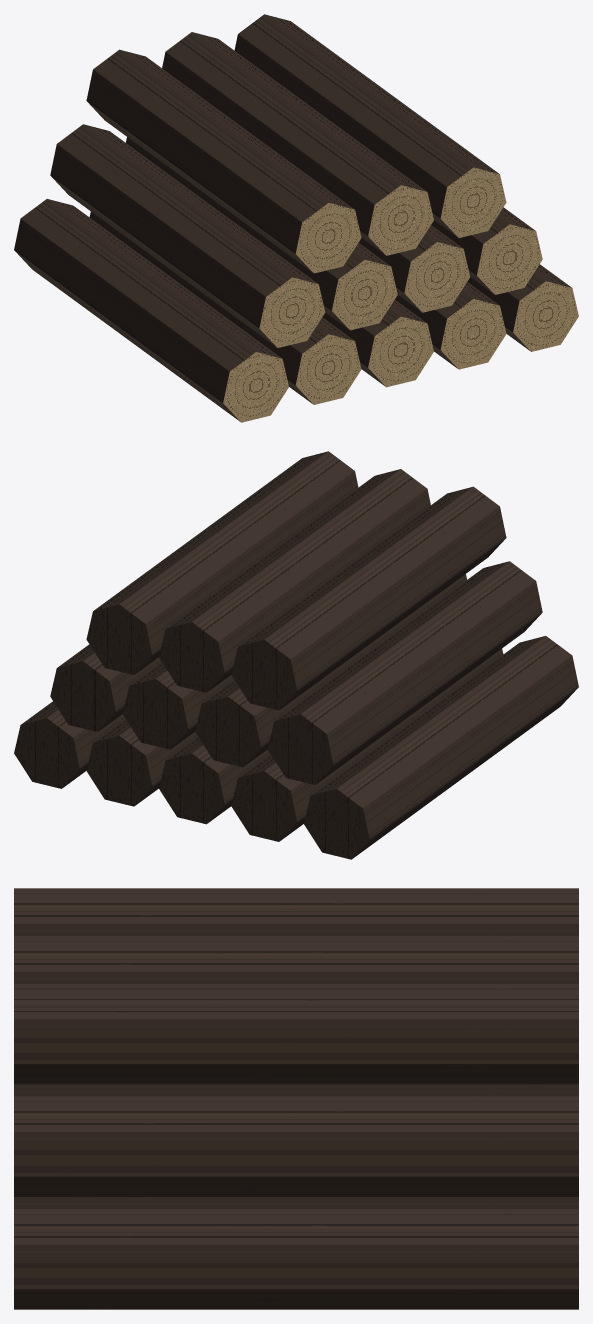
File: woodpile.glb
3 views of the same model, one above another, from view 1: azimuth 30°, elevation 25°; view 2: azimuth 150°, elevation 25°; view 3: azimuth 270°, elevation 25° (orthographic). The views are drawn at different scales.
Parts seen in each view (by area): view 1: woodpile; view 2: woodpile; view 3: woodpile.
Part boxes in pixels (<box>): woodpile: <box>14,14,578,422</box>; woodpile: <box>14,451,578,859</box>; woodpile: <box>14,888,578,1309</box>.
Bounding box in the file's own units: 1.47 × 0.7861 × 1.5.
Materials: 1 (1 with a texture image).
